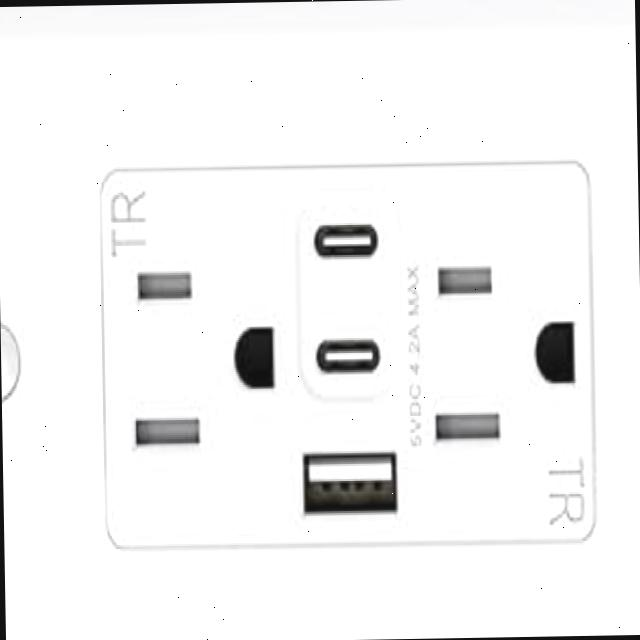type_b: (97, 160, 598, 550), (96, 167, 300, 550), (413, 157, 598, 546)
